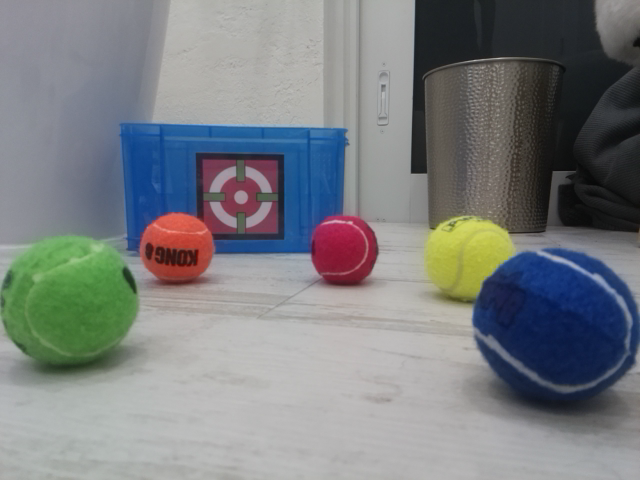blue-ball: (471, 246, 640, 406)
drop-bin: (195, 151, 286, 240)
green-ball: (1, 234, 140, 367)
orange-ball: (139, 212, 216, 284)
red-ball: (309, 214, 379, 286)
yellow-ball: (424, 214, 517, 304)
